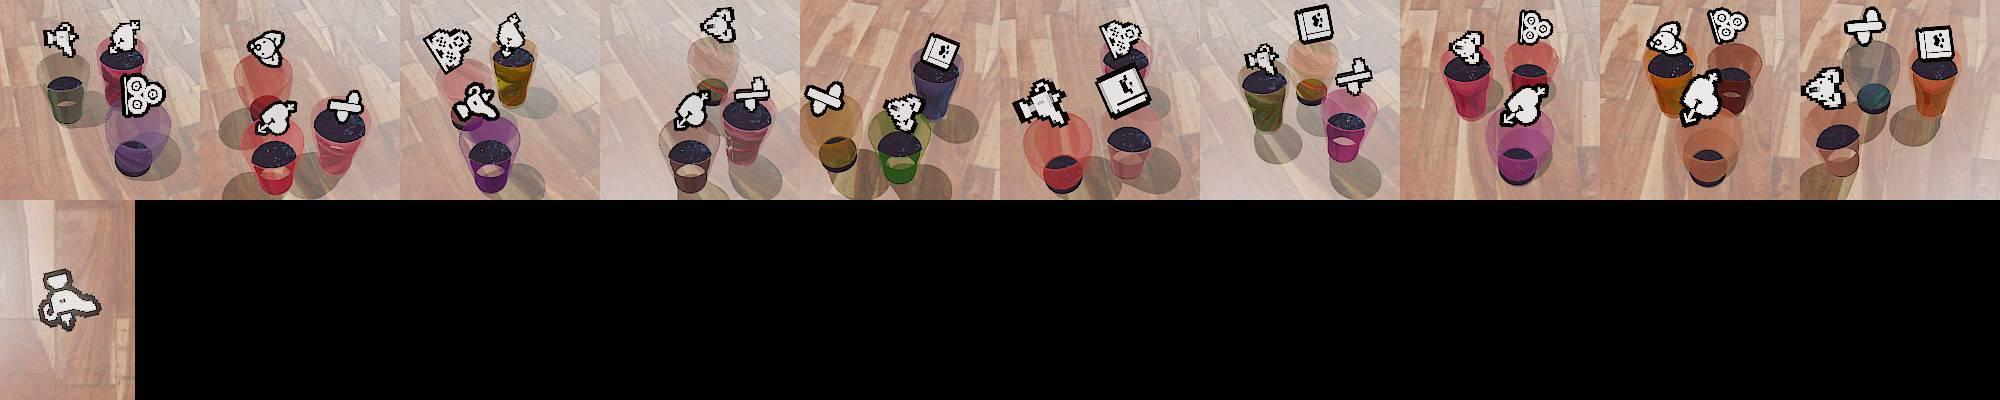icon: (40, 268, 105, 330), (1094, 64, 1152, 120), (1014, 76, 1069, 126), (1677, 69, 1723, 125), (1499, 82, 1550, 127), (1801, 66, 1847, 110), (120, 74, 166, 117), (917, 32, 962, 75), (1843, 6, 1885, 47), (802, 78, 846, 117), (1099, 19, 1143, 59), (1333, 56, 1374, 97), (731, 74, 772, 115), (1708, 6, 1750, 46), (673, 88, 713, 130), (1295, 4, 1334, 45), (1915, 25, 1957, 64), (255, 98, 297, 136), (246, 29, 286, 69), (457, 83, 499, 120), (325, 88, 366, 125), (431, 29, 469, 68), (495, 13, 527, 56), (1517, 9, 1554, 46), (43, 22, 80, 59), (700, 6, 736, 45), (885, 93, 921, 131), (1647, 20, 1685, 55), (1244, 43, 1282, 78), (1449, 29, 1485, 65), (107, 19, 142, 56)
